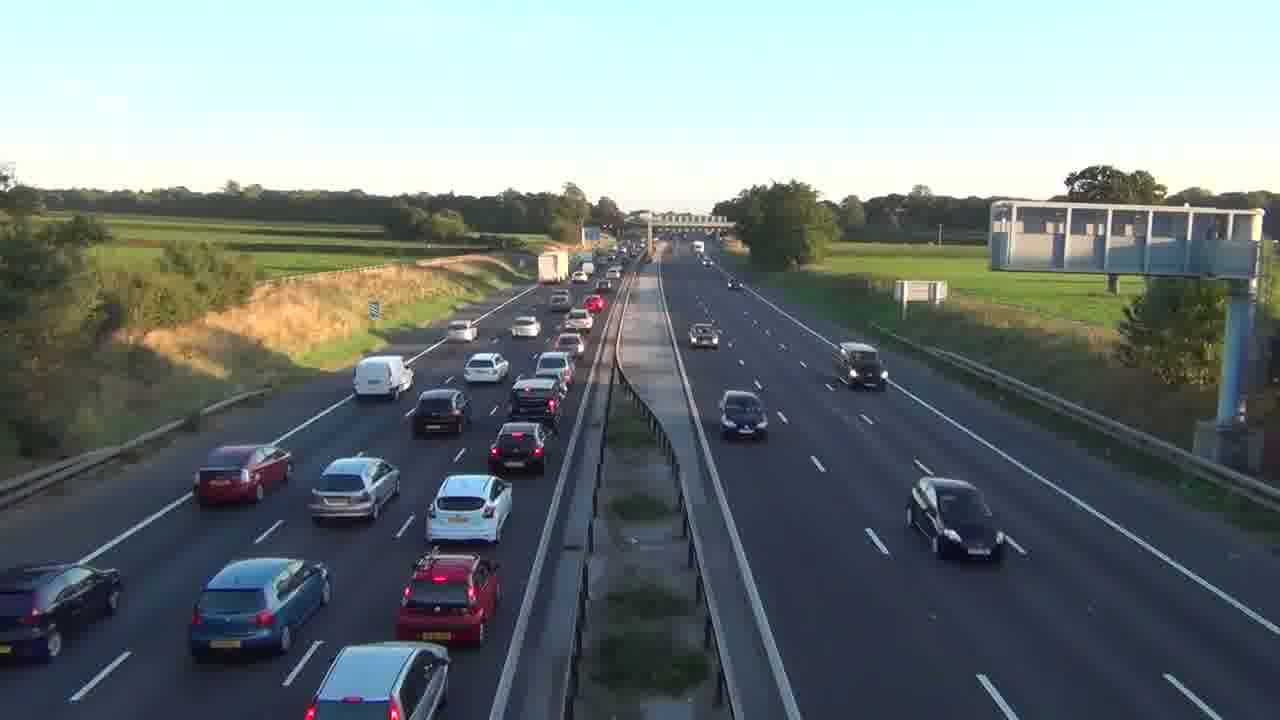car: (188, 556, 334, 660), (303, 641, 451, 719), (393, 553, 501, 647), (904, 475, 1002, 561), (424, 473, 514, 544), (307, 455, 401, 521), (488, 420, 546, 475), (410, 387, 469, 438), (718, 389, 769, 441), (464, 351, 510, 384)
truck: (0, 561, 127, 664), (192, 444, 292, 506), (831, 340, 885, 391), (352, 355, 407, 401)
